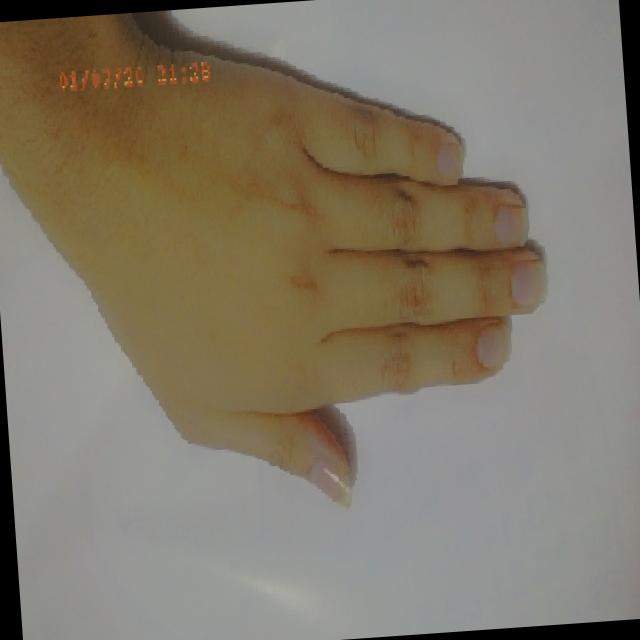Nail: (304, 458, 350, 508), (510, 260, 546, 307), (474, 322, 510, 368), (492, 204, 527, 245), (435, 143, 460, 175)
